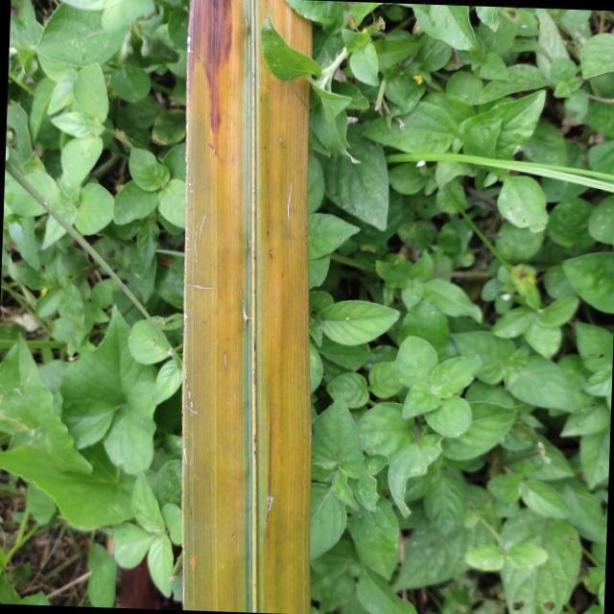Megnesium: (180, 0, 308, 614)
